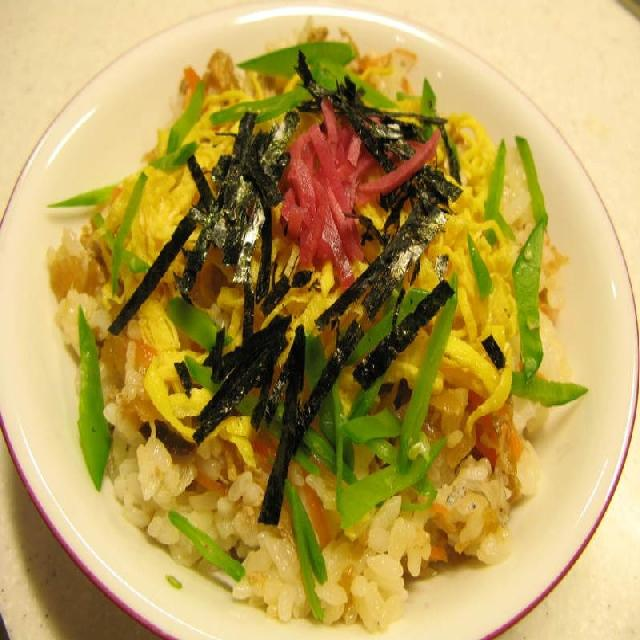寿司卷物: (1, 5, 638, 635)
